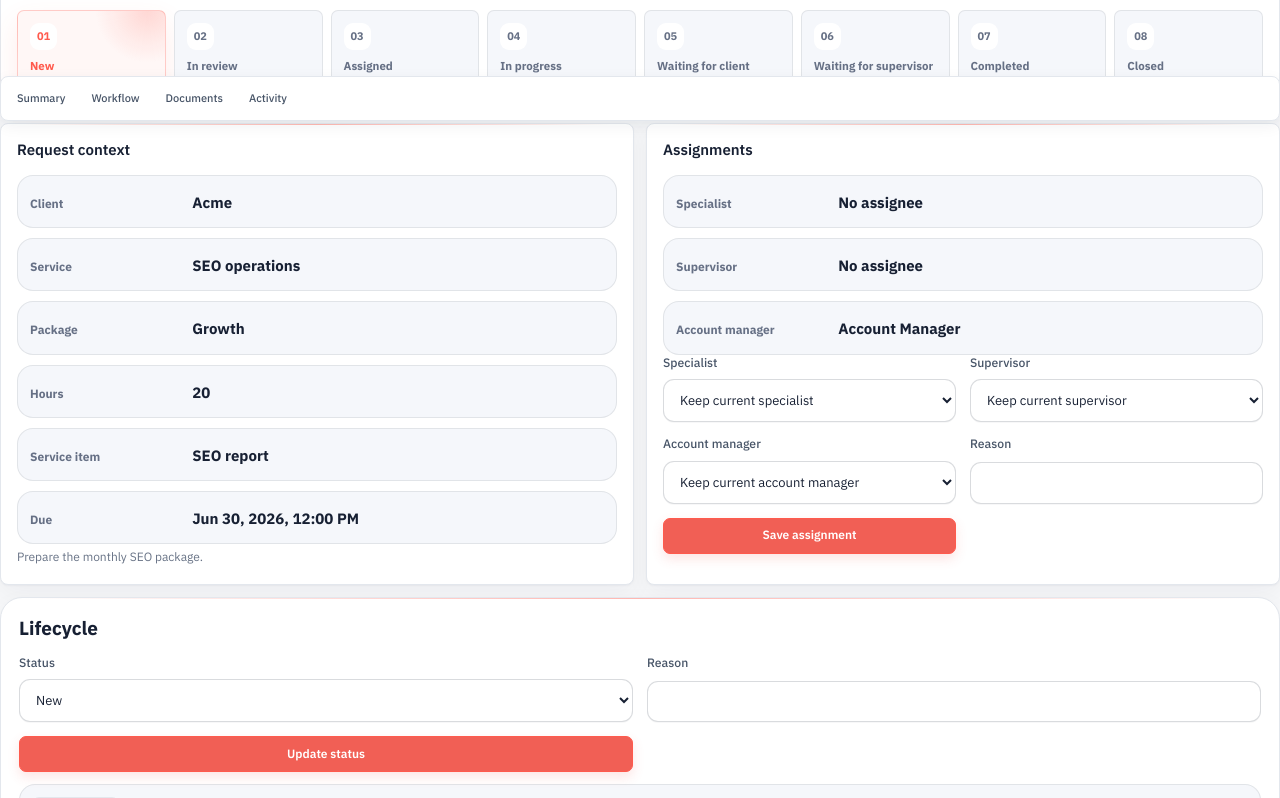
Scenario: Request lifecycle UI › assigns users through friendly assignment candidate selectors
(page scrolled)
Select "Specialist User (specialist@example.com)" in the dropdown labelled "Specialist" at [810, 401], box [663,379,956,422]
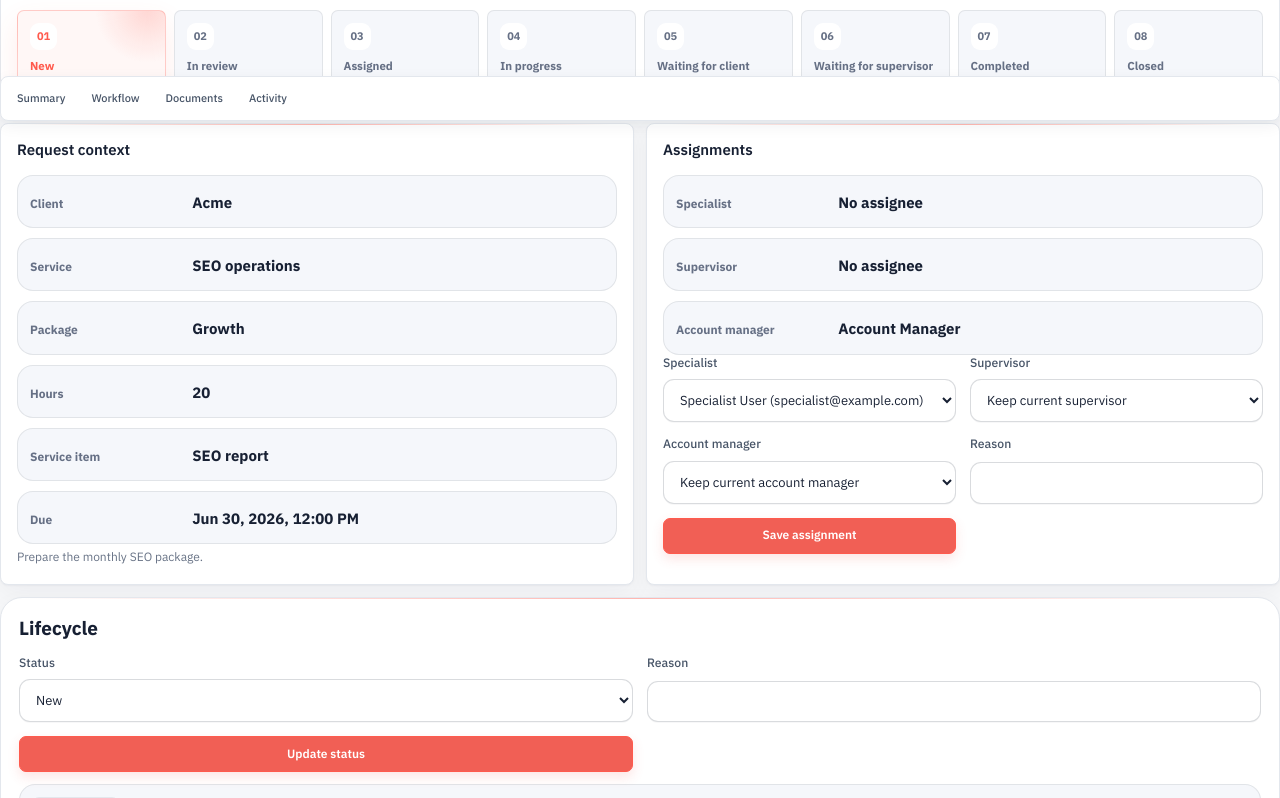
Select "Supervisor User (supervisor@example.com)" in the dropdown labelled "Supervisor" at [1116, 401], box [970,379,1263,422]
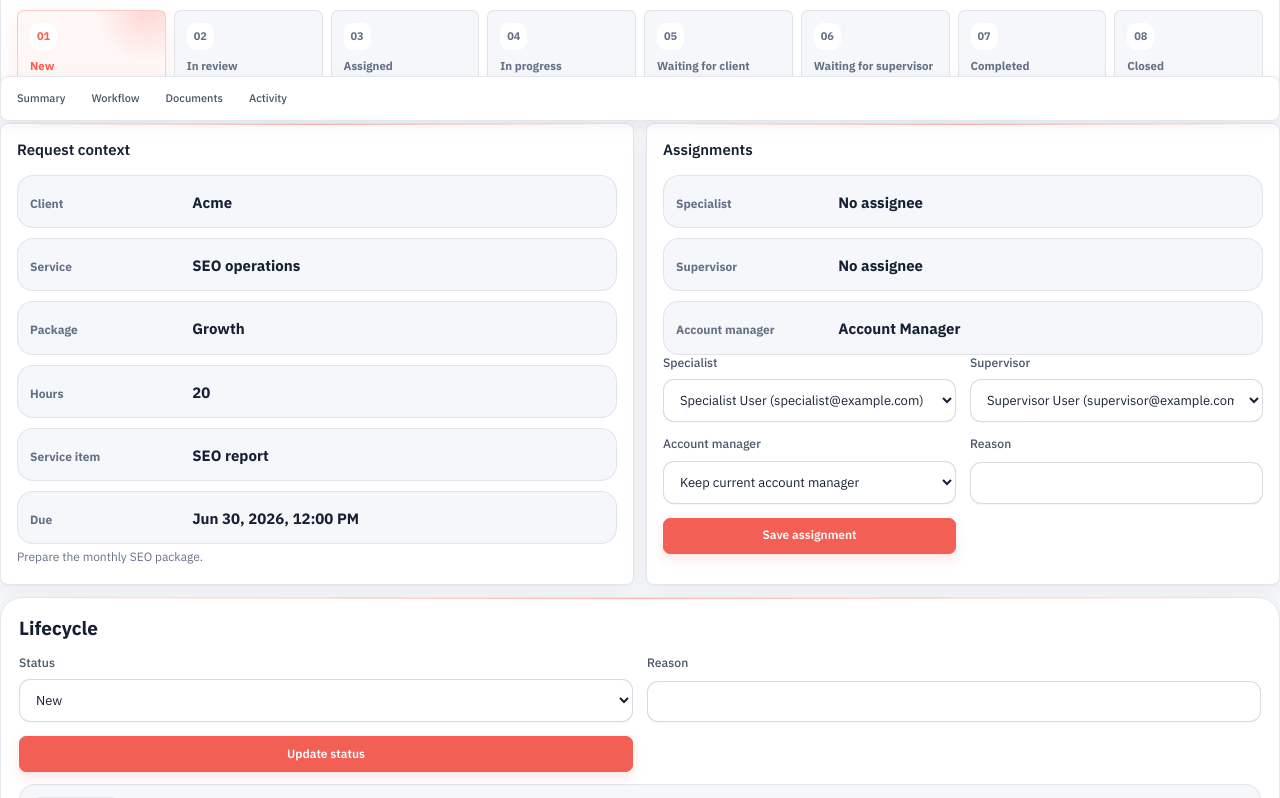
Click the button "Save assignment".
click(810, 536)  # box [663,518,956,554]
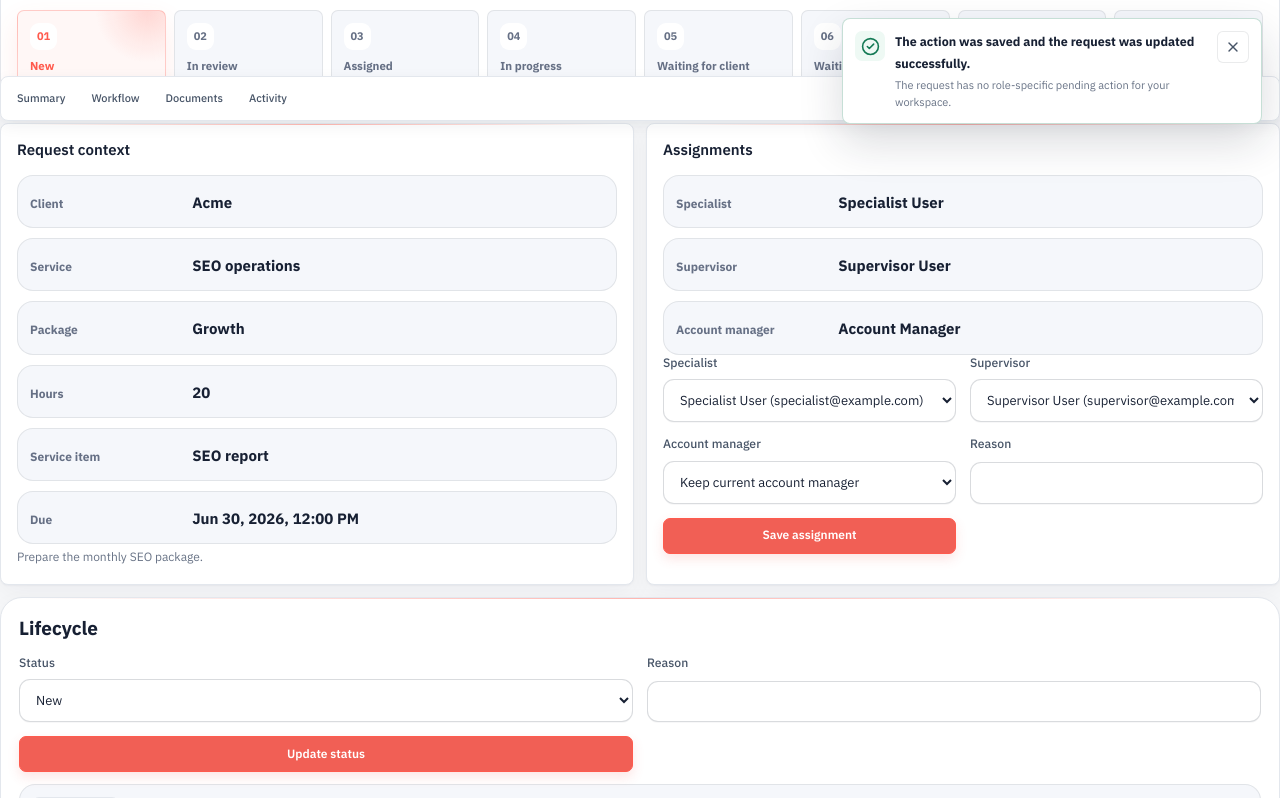
expect the text "Specialist User" is shown: met, box [838,192,944,214]
